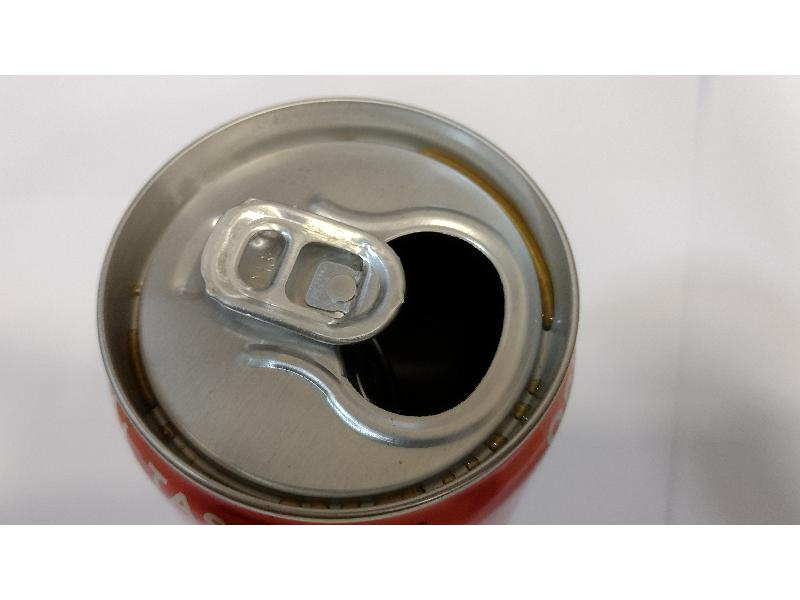can: (86, 84, 596, 526)
